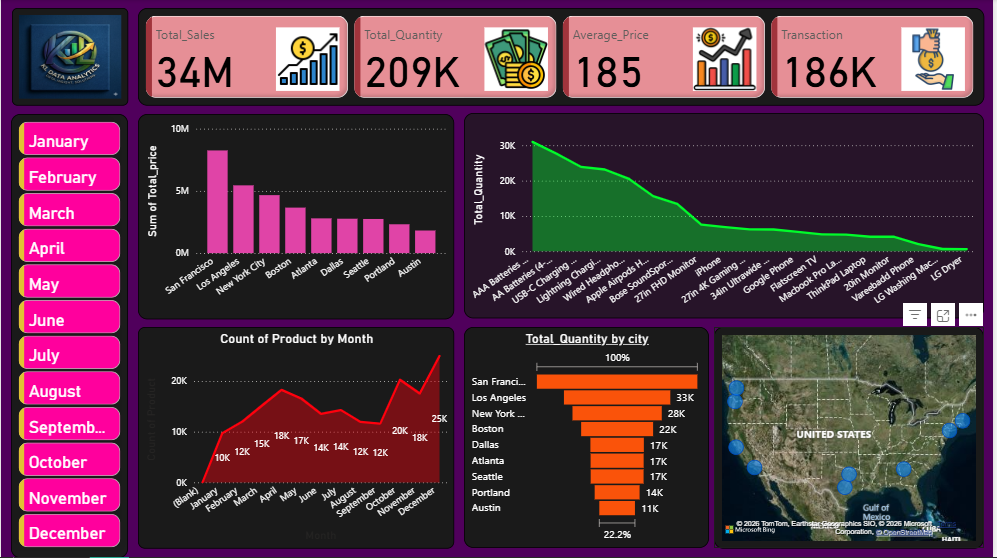

Layout of this report page (visuals, bound fields, positions):
{"tool":"powerbi","page":{"name":"Page 1","canvas":[1280,720],"ordinal":0},"visuals":[{"type":"advancedSlicerVisual","fields":{"Values":["sales_clened.Order Date1.Variation.Date Hierarchy.Month"]},"box":[13.4,147.8,151.2,572.8],"z":0},{"type":"clusteredColumnChart","fields":{"Category":["sales_clened.city"],"Y":["Sum(sales_clened.Total_price)"]},"box":[176.8,148.4,407.7,264.5],"z":1},{"type":"cardVisual","fields":{"Data":["sales_clened.Total_Sales","sales_clened.Total_Quantity","sales_clened.Average_Price","sales_clened.Transaction"]},"box":[176.8,11.6,1091.6,126.5],"z":2},{"type":"stackedAreaChart","fields":{"Category":["sales_clened.Product"],"Y":["sales_clened.Total_Quantity"]},"box":[597.4,147.1,671,264.5],"z":3},{"type":"map","fields":{"Category":["sales_clened.city"]},"box":[920.5,423.3,347.7,285.6],"z":4},{"type":"stackedAreaChart","fields":{"Category":["sales_clened.Order Date1.Variation.Date Hierarchy.Month"],"Y":["CountNonNull(sales_clened.Product)"]},"box":[176.4,423.3,408.2,285.6],"z":6},{"type":"funnel","fields":{"Category":["sales_clened.city"],"Y":["sales_clened.Total_Quantity"]},"box":[597.4,423.2,316.1,285.2],"z":7},{"type":"image","box":[14.2,11.6,149.7,126.5],"z":9}]}

Visuals, with their boxes in screenshot pixels (x1, y1, x2, y2), scaled from the page's 1280x720 canvas onto the 997x558 screenshot:
advancedSlicerVisual - sales_clened.Order Date1.Variation.Date Hierarchy.Month: Rect(10, 115, 128, 557)
clusteredColumnChart - sales_clened.city x Sum(sales_clened.Total_price): Rect(138, 115, 455, 320)
cardVisual - sales_clened.Total_Sales x sales_clened.Total_Quantity: Rect(138, 9, 988, 107)
stackedAreaChart - sales_clened.Product x sales_clened.Total_Quantity: Rect(465, 114, 988, 319)
map - sales_clened.city: Rect(717, 328, 988, 549)
stackedAreaChart - sales_clened.Order Date1.Variation.Date Hierarchy.Month x CountNonNull(sales_clened.Product): Rect(137, 328, 455, 549)
funnel - sales_clened.city x sales_clened.Total_Quantity: Rect(465, 328, 712, 549)
image: Rect(11, 9, 128, 107)
